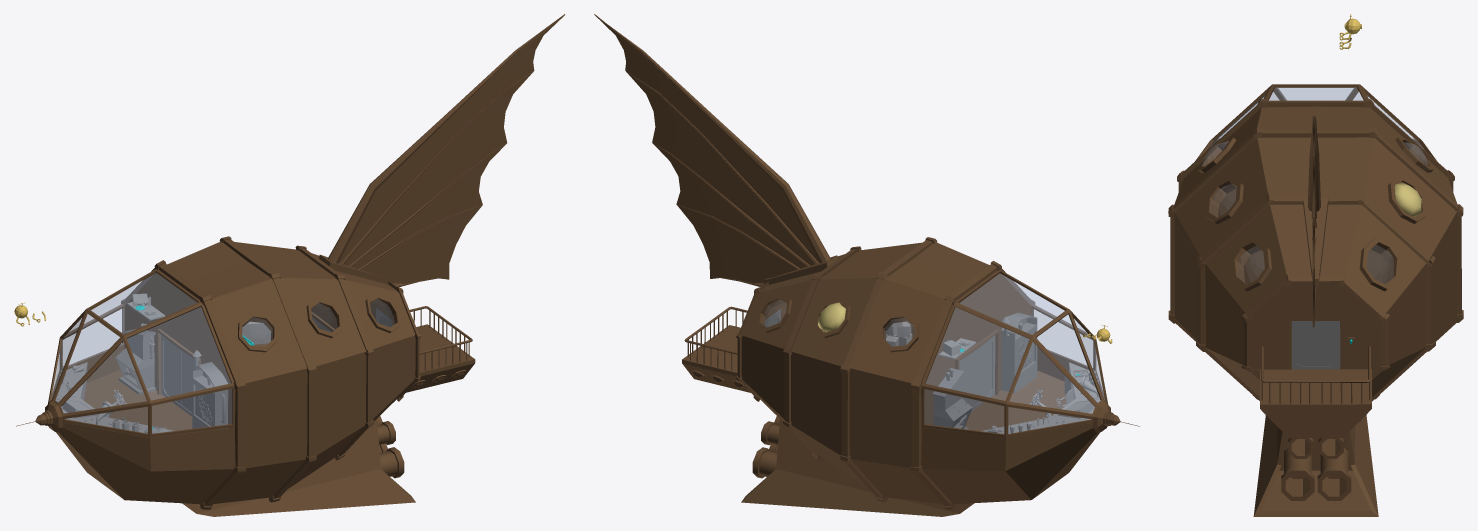
The model's file is Nave_nueva.fbx.
3 views of the same model, side by side, from view 1: azimuth 30°, elevation 25°; view 2: azimuth 150°, elevation 25°; view 3: azimuth 270°, elevation 25° (orthographic). The views are drawn at different scales.
Visible parts, largest first — view 1: Nave_espacial, Aleta_nave, Vidrio_Nave, Turbinas, Estructura_cabina, Piso_nave, Mesa_de_control, Panel_control, Panel_cables_luz, cupulas, Puerta_01, Puerta_02; view 2: Nave_espacial, Aleta_nave, Vidrio_Nave, Turbinas, Estructura_cabina, Mesa_de_control, Piso_nave, Panel_control, Panel_cables_luz, Puerta_02, cupulas, Puerta_01 (+1 smaller); view 3: Nave_espacial, Turbinas, cupulas, Vidrio_Nave, Estructura_cabina, Aleta_nave, Puerta_06, Puerta_05, ventana_reparada.
Part boxes in pixels (x1,y1,x2,y2): Nave_espacial: (56, 236, 475, 509); Aleta_nave: (327, 14, 565, 287); Vidrio_Nave: (51, 273, 231, 433); Turbinas: (182, 416, 415, 516); Estructura_cabina: (16, 269, 235, 437); Piso_nave: (84, 343, 268, 430); Mesa_de_control: (55, 293, 173, 433); Panel_control: (192, 350, 228, 431); Panel_cables_luz: (115, 323, 155, 394); cupulas: (243, 299, 394, 345); Puerta_01: (161, 335, 181, 407); Puerta_02: (180, 350, 195, 416); Nave_espacial: (682, 237, 1099, 509); Aleta_nave: (594, 14, 830, 286); Vidrio_Nave: (924, 274, 1104, 433); Turbinas: (741, 416, 973, 516); Estructura_cabina: (921, 270, 1139, 437); Mesa_de_control: (938, 338, 1100, 433); Piso_nave: (965, 370, 1065, 430); Panel_control: (1001, 312, 1037, 393); Panel_cables_luz: (932, 368, 972, 429); Puerta_02: (975, 335, 995, 408); cupulas: (762, 300, 913, 345); Puerta_01: (959, 351, 975, 411); Nave_espacial: (1168, 99, 1463, 437); Turbinas: (1253, 415, 1378, 516); cupulas: (1202, 141, 1427, 283); Vidrio_Nave: (1208, 87, 1423, 148); Estructura_cabina: (1195, 84, 1436, 160); Aleta_nave: (1307, 116, 1320, 327); Puerta_06: (1291, 321, 1316, 369); Puerta_05: (1316, 321, 1340, 369); ventana_reparada: (1394, 182, 1421, 217).
Bounding box in the file's own units: 3169 × 2359 × 1259.
